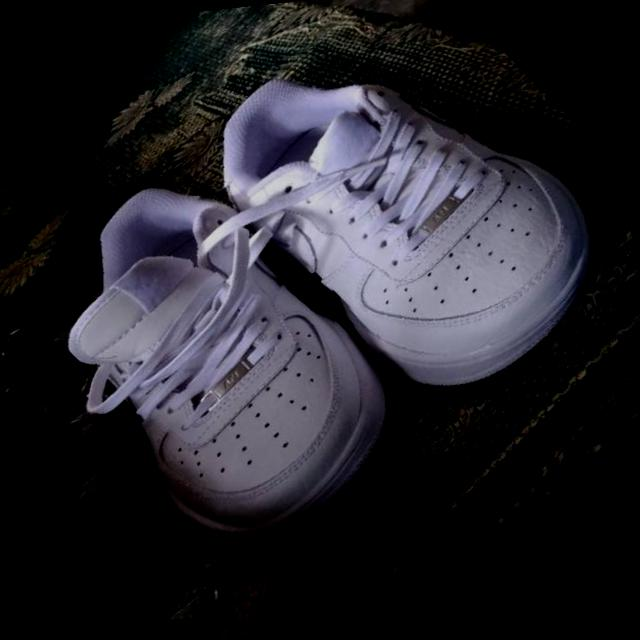nike_fake_airforce: (162, 0, 640, 459), (0, 126, 443, 607), (161, 0, 590, 390)
